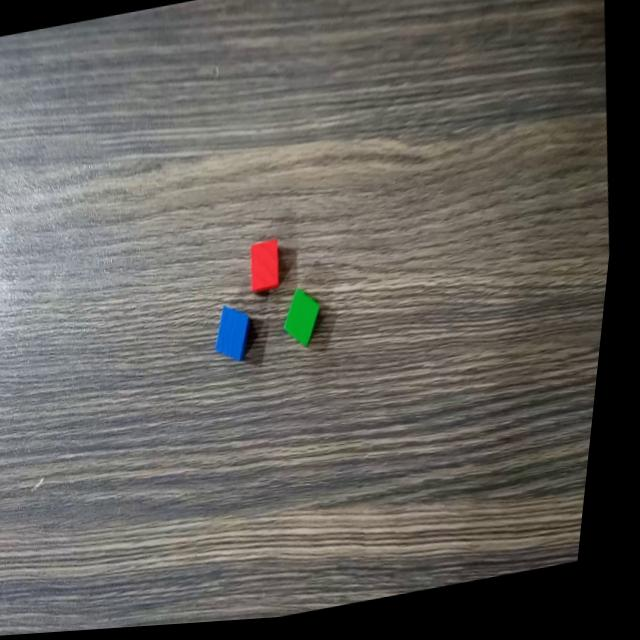cube: (282, 282, 339, 358), (213, 299, 265, 369), (247, 236, 294, 302)
